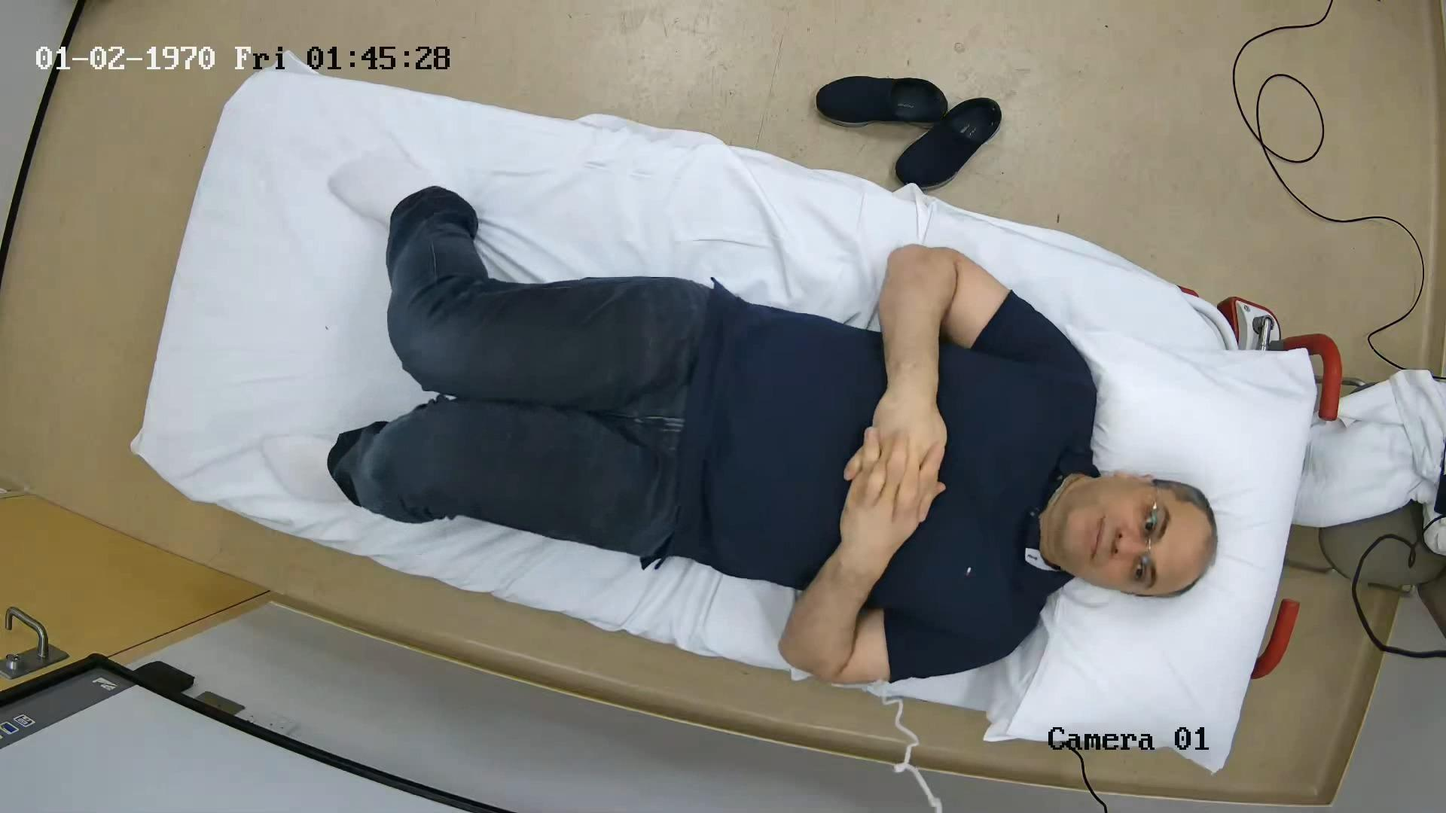bed: (134, 61, 1341, 772)
patient: (328, 187, 1216, 683)
